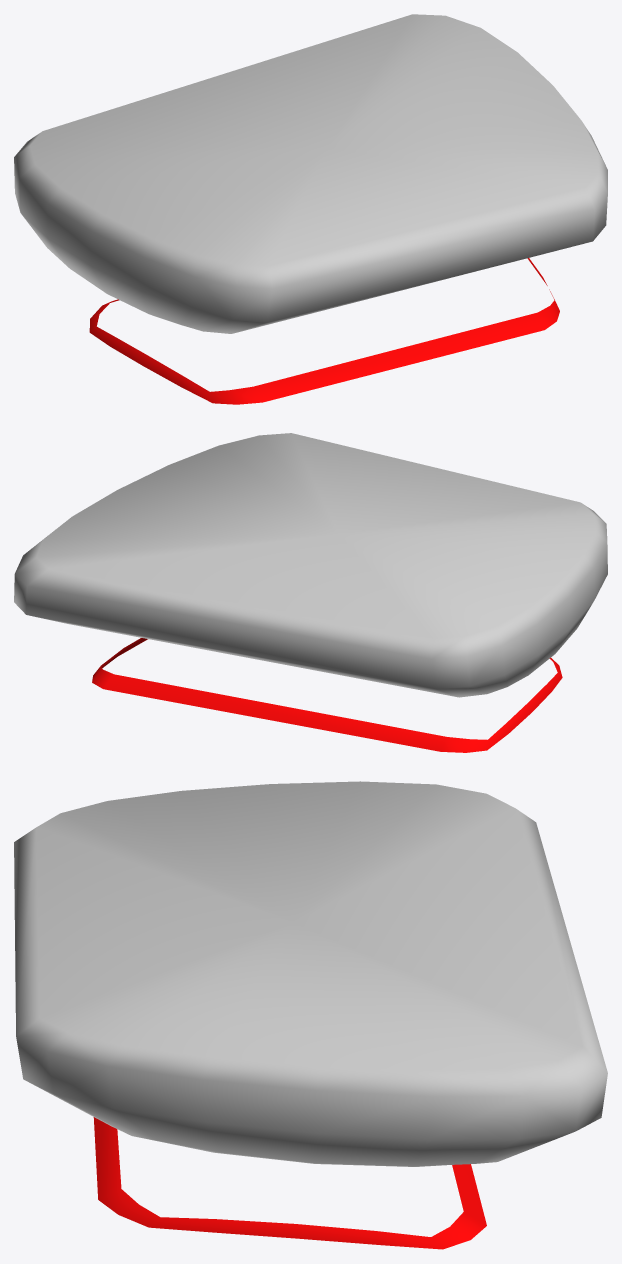
The model's file is SM_Table_006.fbx.
3 views of the same model, one above another, from view 1: azimuth 30°, elevation 25°; view 2: azimuth 150°, elevation 25°; view 3: azimuth 270°, elevation 25° (orthographic). The views are drawn at different scales.
Parts seen in each view (by area): view 1: polySurface21; view 2: polySurface21; view 3: polySurface21.
Part boxes in pixels (box(x1,y1,x2,y2)): polySurface21: box(14, 14, 607, 404); polySurface21: box(14, 433, 607, 752); polySurface21: box(14, 781, 607, 1249).
Bounding box in the file's own units: 366 × 112 × 301.
